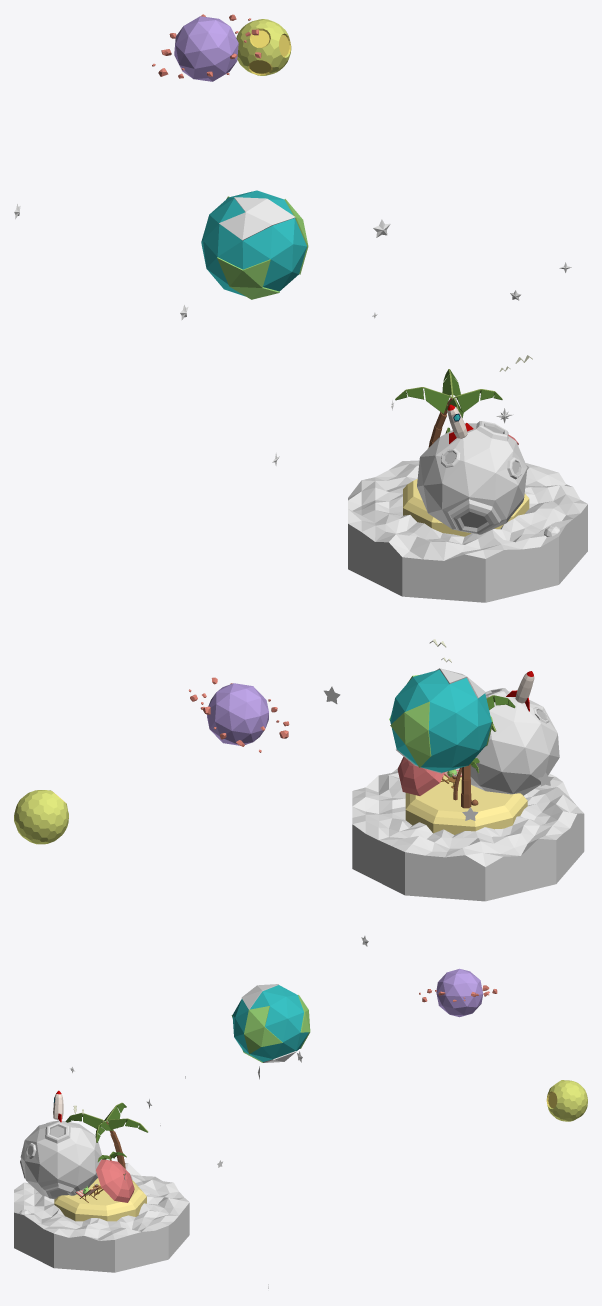
Rendered from astro.glb.
The picture shows the model from 3 angles, top to bottom: view 1: azimuth 30°, elevation 25°; view 2: azimuth 150°, elevation 25°; view 3: azimuth 270°, elevation 25°; orthographic projection. The views are drawn at different scales.
Visible parts, largest first — view 1: water, planets, moon, island; view 2: water, planets, island, moon, rocket, stars; view 3: water, planets, moon, island.
Part boxes in pixels (x1,y1,x2,y2): water: [348, 460, 587, 602]; planets: [152, 14, 308, 299]; moon: [417, 421, 527, 534]; island: [395, 355, 532, 536]; water: [352, 768, 584, 901]; planets: [14, 668, 492, 844]; island: [397, 639, 527, 834]; moon: [459, 688, 559, 795]; rocket: [506, 671, 534, 711]; stars: [324, 686, 553, 820]; water: [14, 1163, 189, 1272]; planets: [231, 968, 587, 1121]; moon: [20, 1120, 101, 1199]; island: [54, 1102, 148, 1221].
Size of the model in its own units: 9.51 by 7.8 by 15.35.
